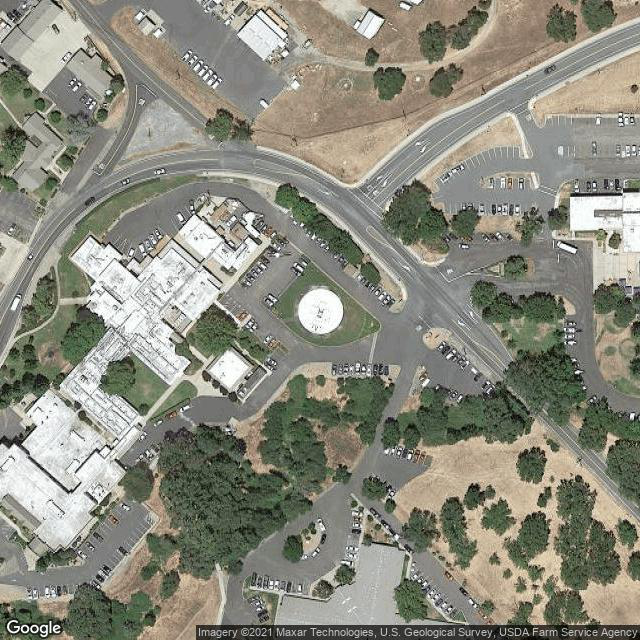Helipad: (298, 287, 346, 337)
